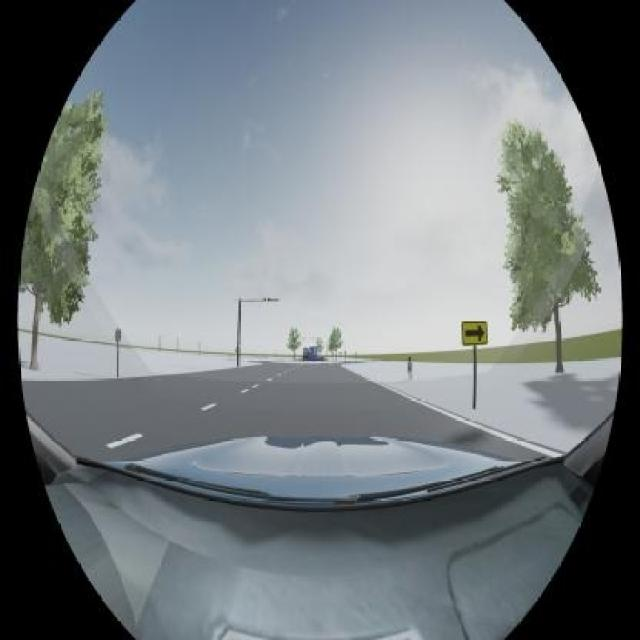forb_speed_over_30: (115, 328, 121, 342)
